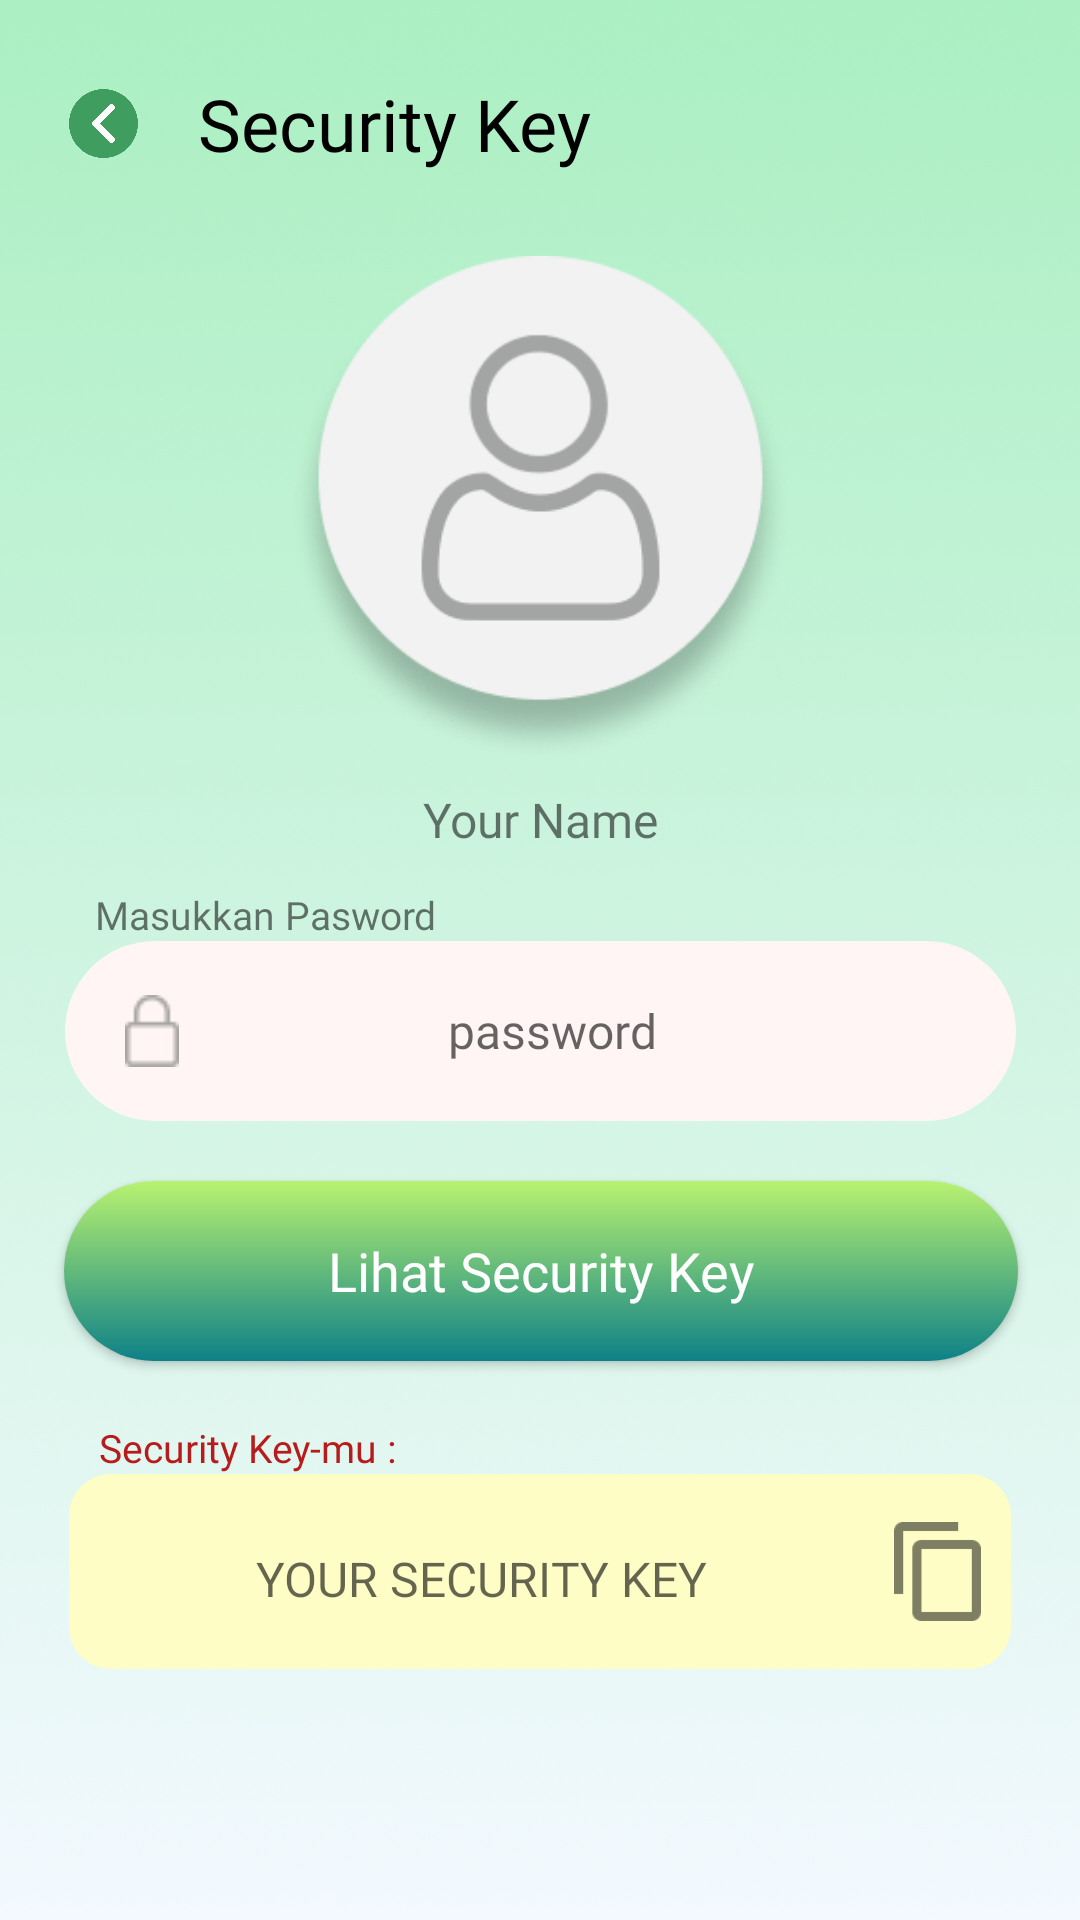

Screen size 1080 × 1920. Icon name, then its box in pixels as [left=x1, top=y1, right=x2, bottom=y2]:
back: [left=69, top=89, right=138, bottom=158]
